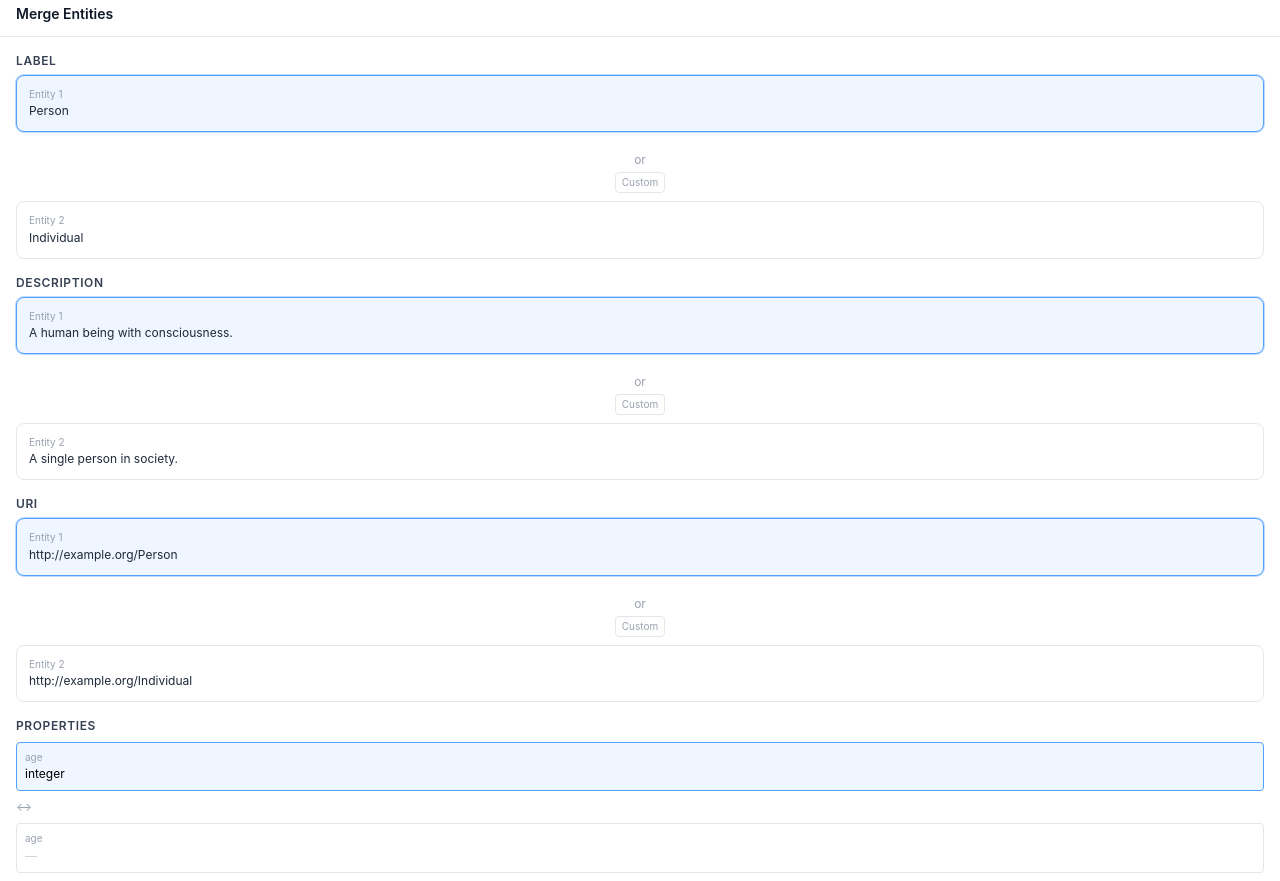
MergeExecutor › allows selecting right entity values
Click the button with test id "select-right-label": (47, 220) [16,201,1264,259]
(page scrolled)
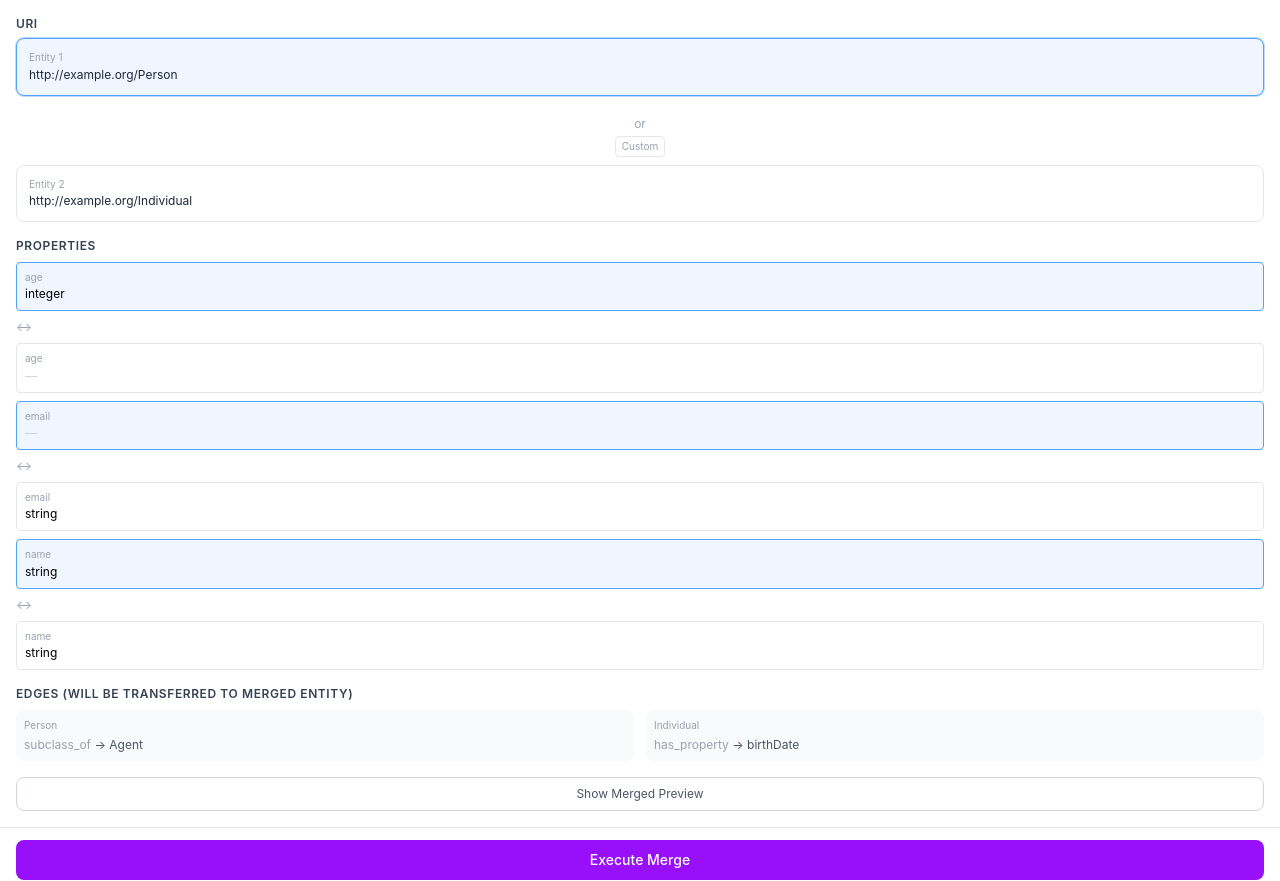
Click the button with test id "toggle-preview-btn": (640, 794) [16,777,1264,811]
(page scrolled)
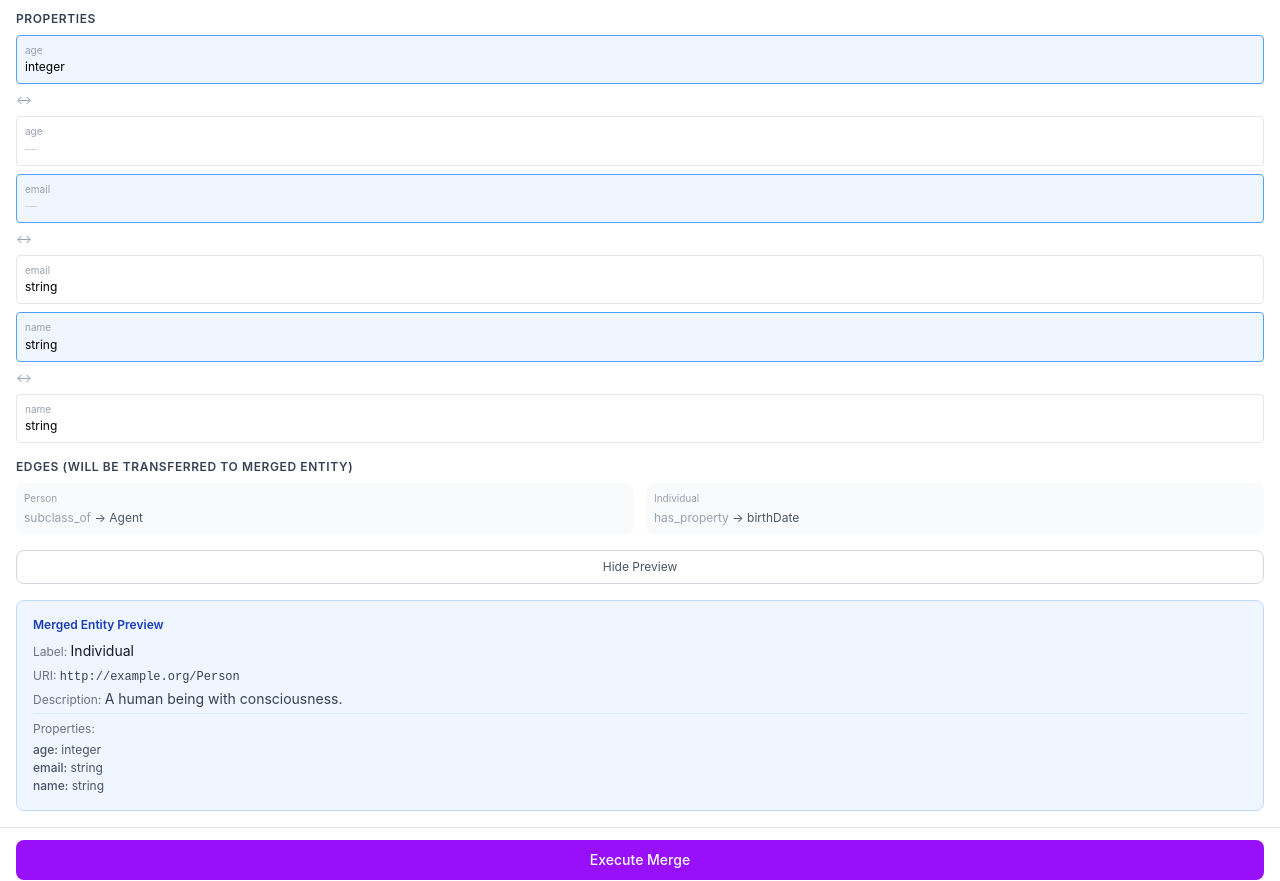
Expected: the element with test id "merge-preview" shows "Individual", [71,642,134,659]
